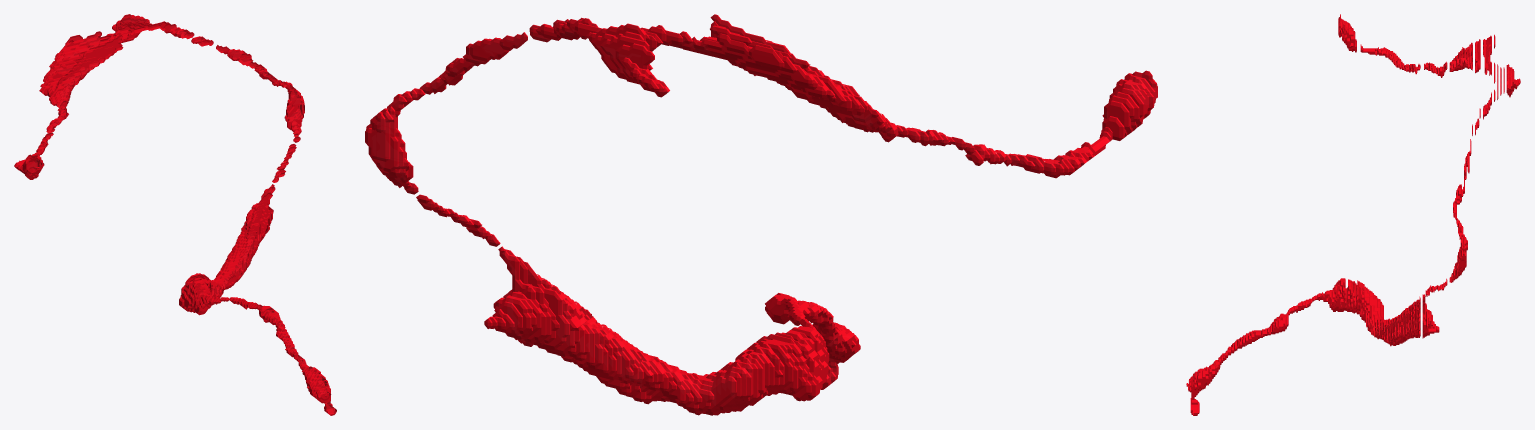
The model's file is SVV_SMDVL.gltf.
The picture shows the model from 3 angles, left to right: view 1: azimuth 30°, elevation 25°; view 2: azimuth 150°, elevation 25°; view 3: azimuth 270°, elevation 25°; orthographic projection. The views are drawn at different scales.
Visible parts, largest first — view 1: SMDVL; view 2: SMDVL; view 3: SMDVL.
Part boxes in pixels (x1=…): SMDVL: x1=14, y1=14, x2=336, y2=415; SMDVL: x1=365, y1=14, x2=1157, y2=415; SMDVL: x1=1186, y1=14, x2=1520, y2=415.
Bounding box in the file's own units: 98867 × 85537 × 80803.
